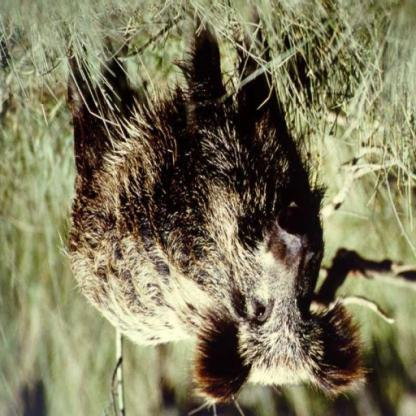boar: (40, 10, 391, 416)
